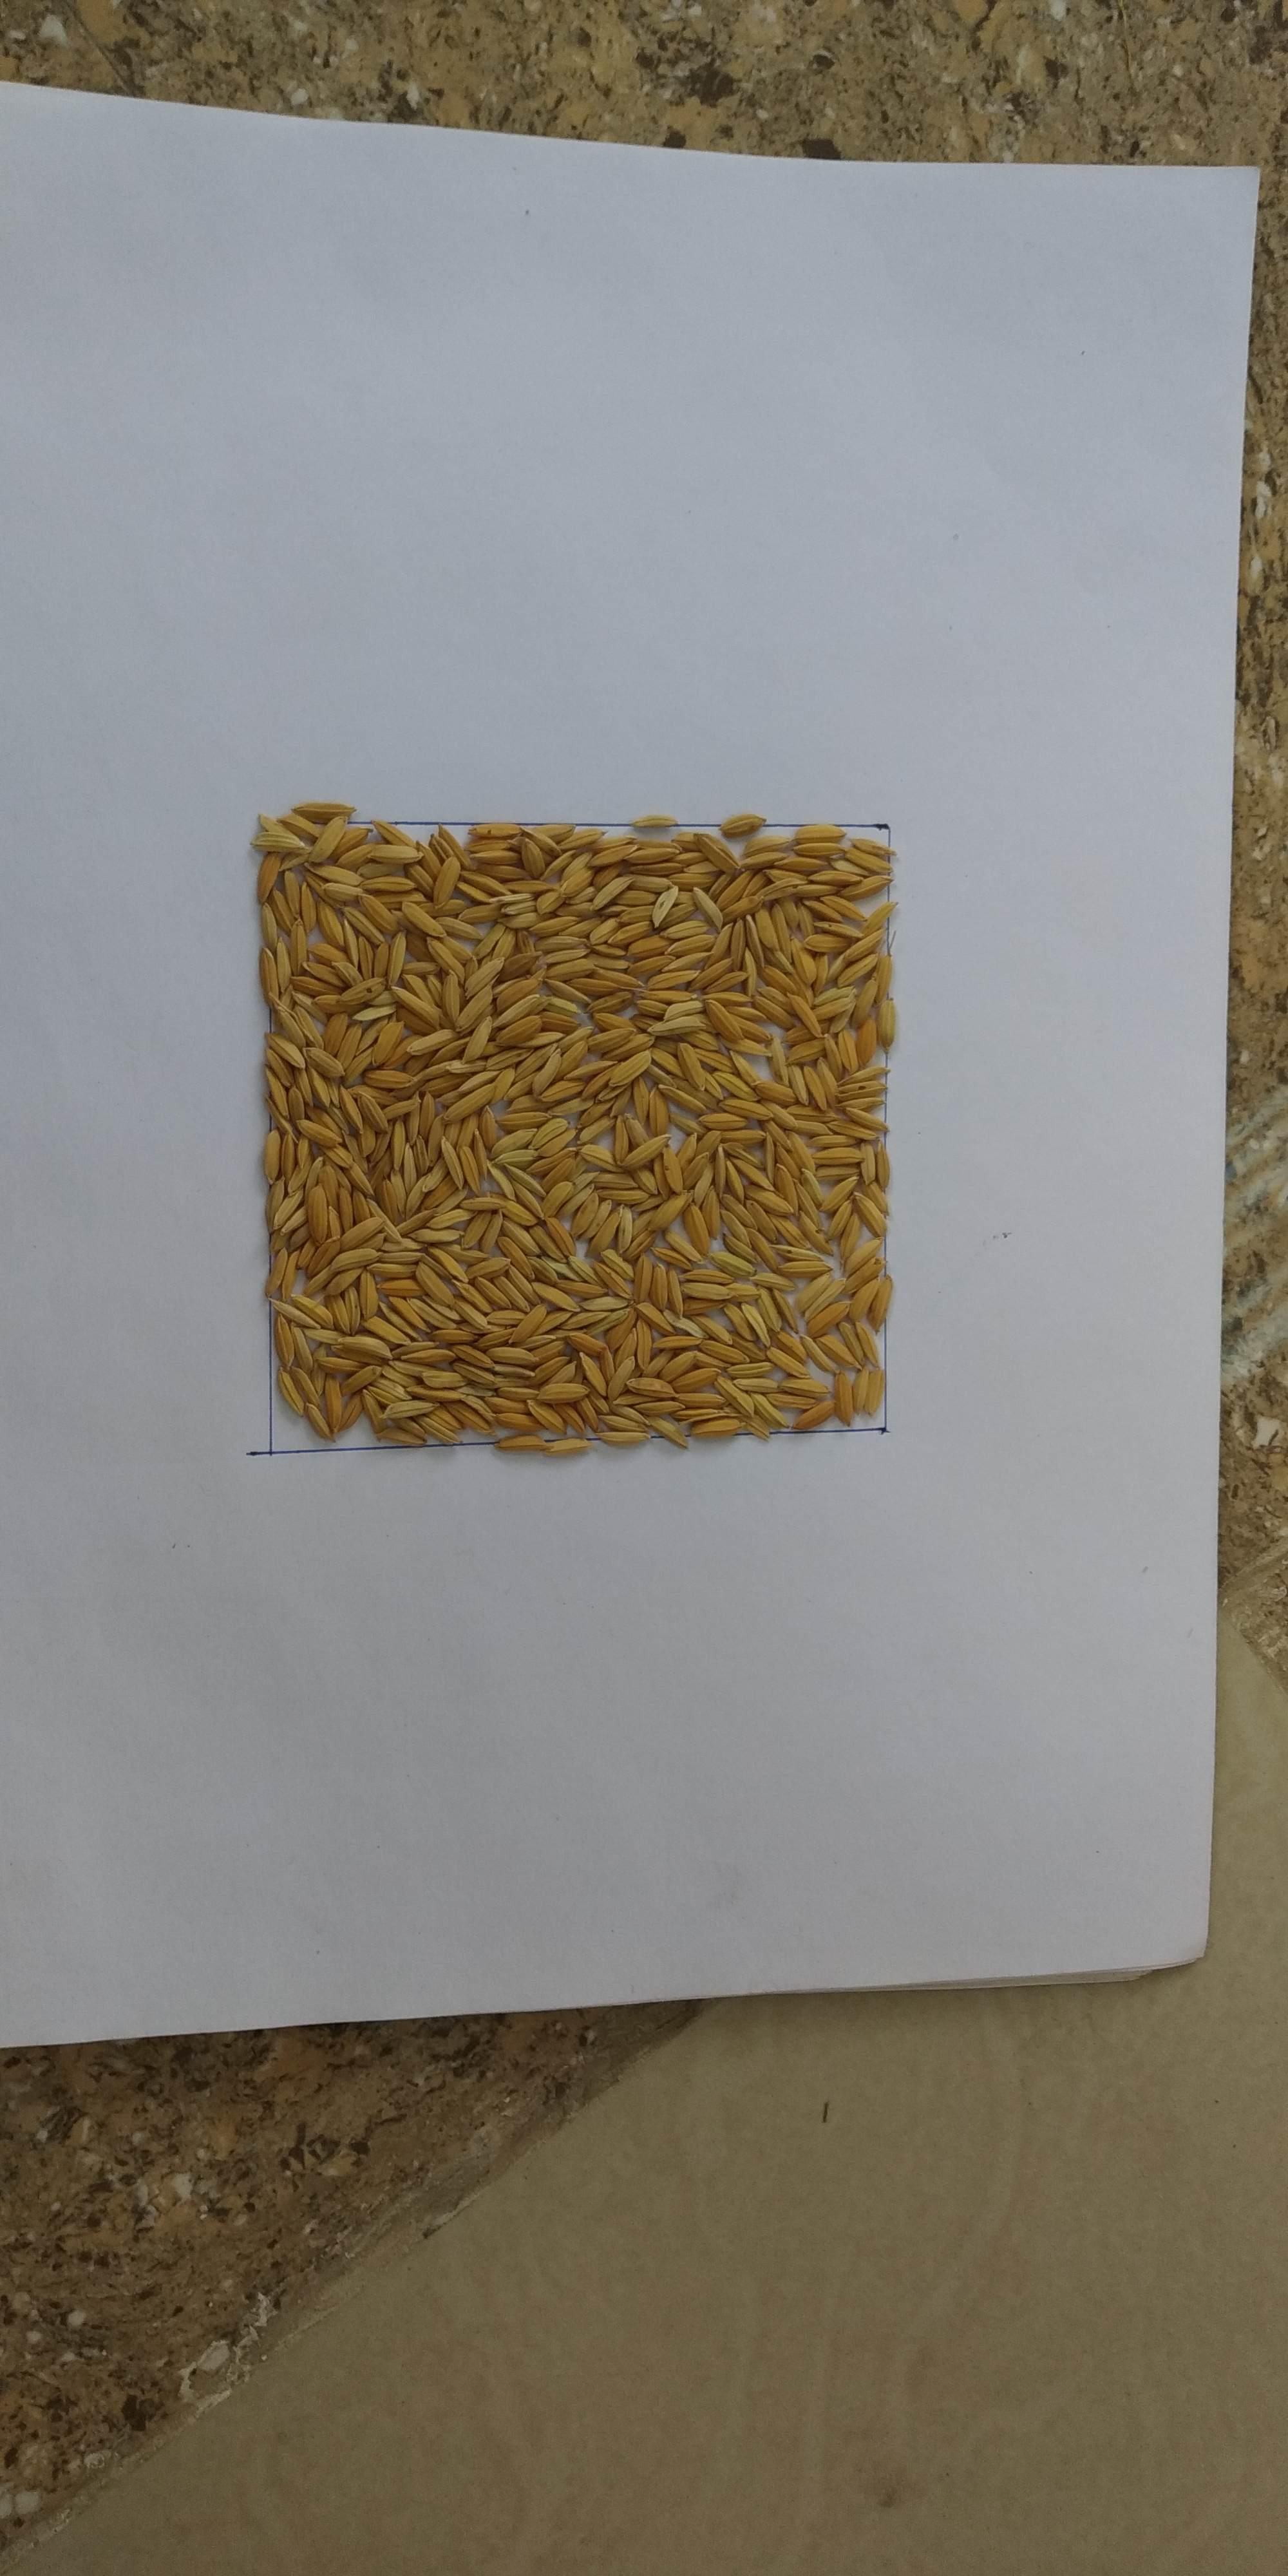pure: (245, 769, 933, 1475)
